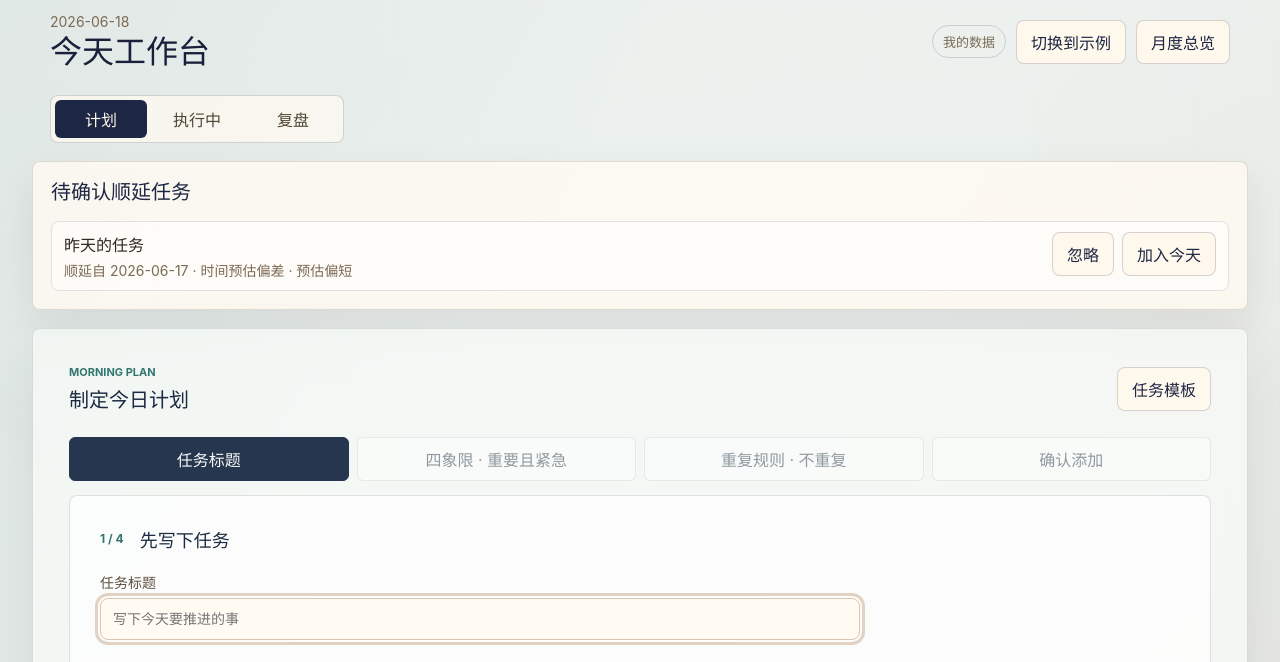
Test: DailyWorkspace › confirms a carryover candidate into today
Expected: the text "昨天的任务" is shown, [64,235,144,255]
Click the button "加入今天": (1169, 254) [1122,232,1216,276]
(page scrolled)
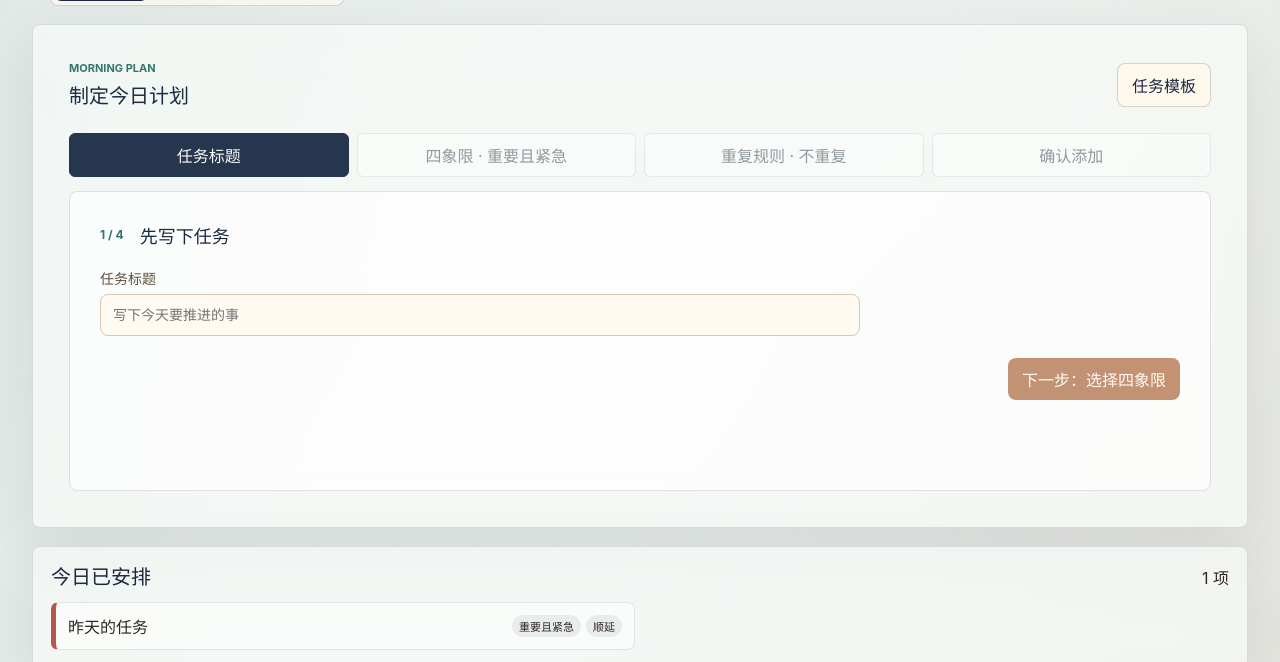
Expected: the text "昨天的任务" is shown, [68,614,148,638]
Expected: the heading "待确认顺延任务" is gone
